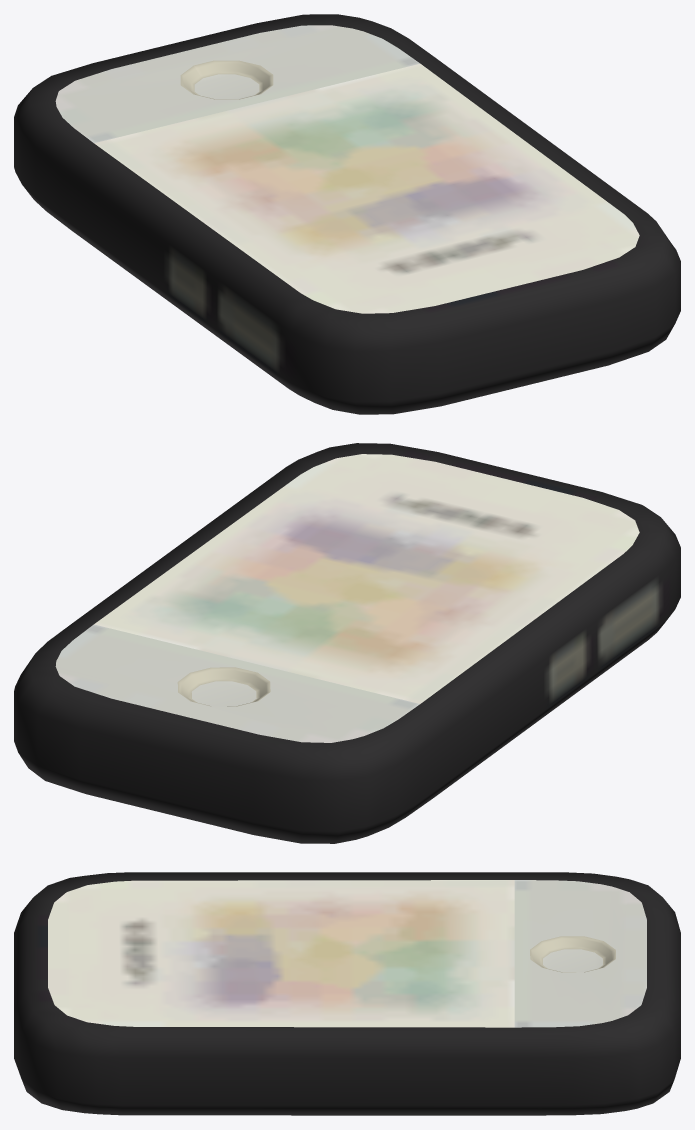
The model's file is ToolSmartphoneBey.glb.
3 renders of one model, top to bottom at view 1: azimuth 30°, elevation 25°; view 2: azimuth 150°, elevation 25°; view 3: azimuth 270°, elevation 25°, orthographic. The views are drawn at different scales.
Parts seen in each view (by area): view 1: Body__mTool; view 2: Body__mTool; view 3: Body__mTool.
Boxes of the visible parts, <box> form: Body__mTool: <box>14,14,680,414</box>; Body__mTool: <box>14,443,680,843</box>; Body__mTool: <box>14,872,680,1115</box>.
Bounding box in the file's own units: 1.82 × 0.4546 × 2.99.
Materials: 1 (1 with a texture image).
